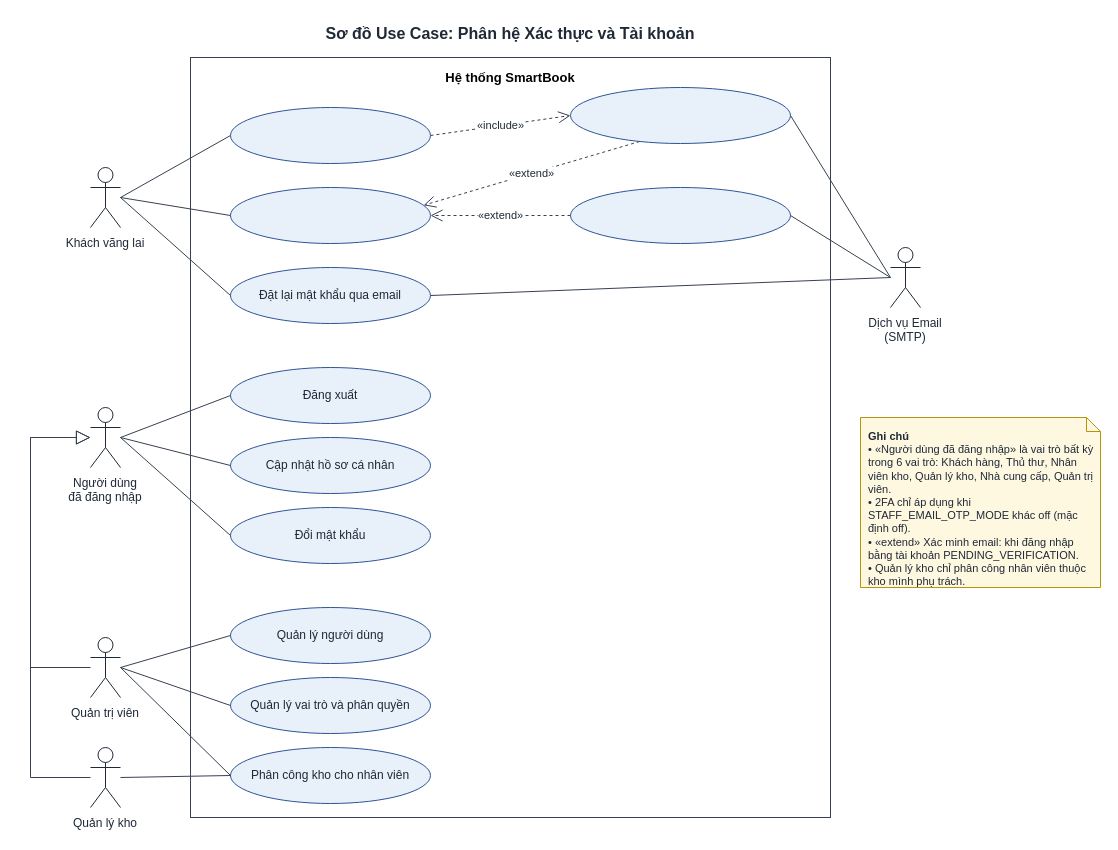
Some shapes in this 1118 by 850 pixel diagram are drawn without their labels. Each missing label, with the box of its shape:
Xác minh email bằng mã OTP: (570, 86, 790, 144)
Xác thực OTP hai lớp (2FA): (570, 186, 790, 244)
Đăng ký tài khoản khách hàng: (230, 106, 430, 164)
Đăng nhập: (230, 186, 430, 244)
